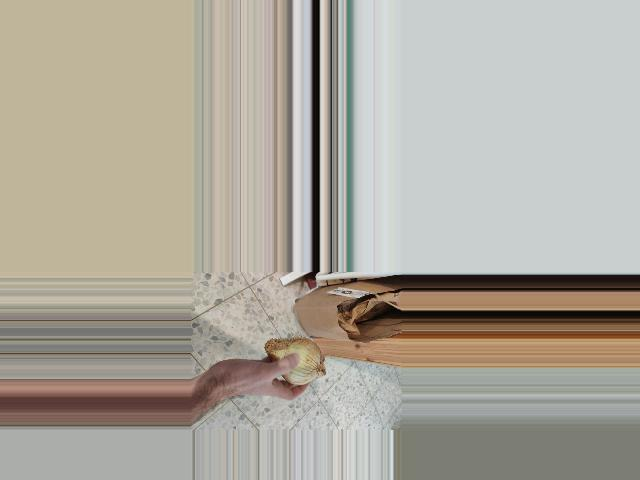onion: (260, 334, 327, 392)
